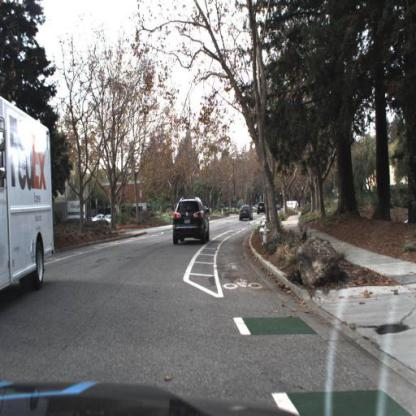car: (171, 196, 211, 248), (238, 202, 253, 222), (89, 212, 108, 224), (256, 201, 265, 214)
